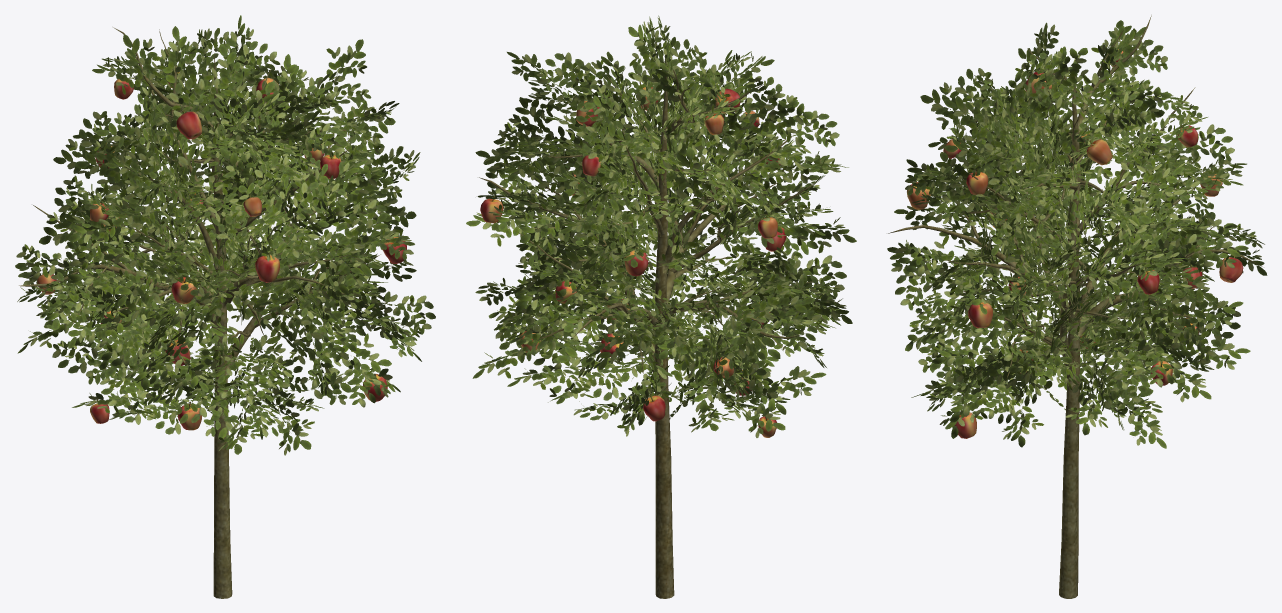
File: tree_apple.glb
3 renders of one model, left to right at view 1: azimuth 30°, elevation 25°; view 2: azimuth 150°, elevation 25°; view 3: azimuth 270°, elevation 25°, orthographic.
Visible parts, largest first — view 1: tree_apple; view 2: tree_apple; view 3: tree_apple.
Boxes of the visible parts, x1=… form: tree_apple: x1=15, y1=15, x2=435, y2=598; tree_apple: x1=466, y1=15, x2=856, y2=598; tree_apple: x1=887, y1=15, x2=1267, y2=598.
Bounding box in the file's own units: 4.82 × 7.2 × 4.44.
3 materials, 3 textured.
